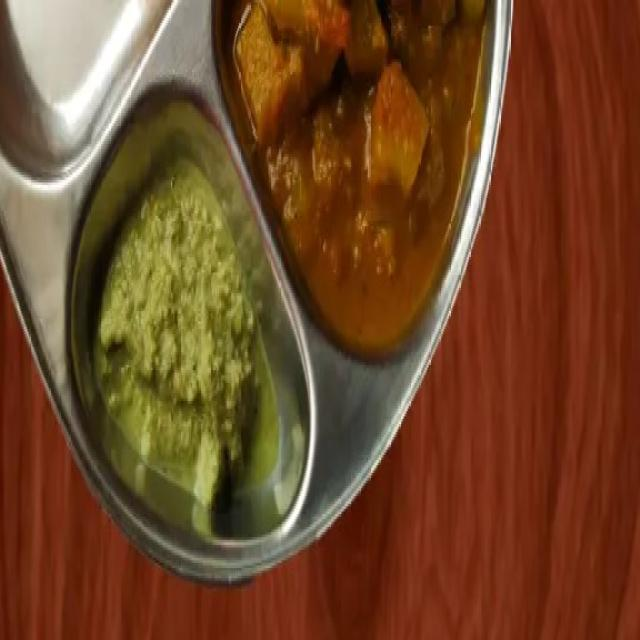GREEN CHUTNEY: (68, 90, 316, 550)
SAMBAR: (212, 0, 489, 360)
